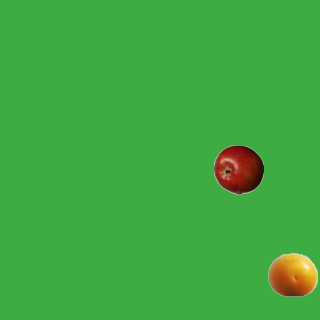Apple Braeburn: (213, 144, 263, 194)
Cherry Wax Yellow: (267, 249, 317, 299)
